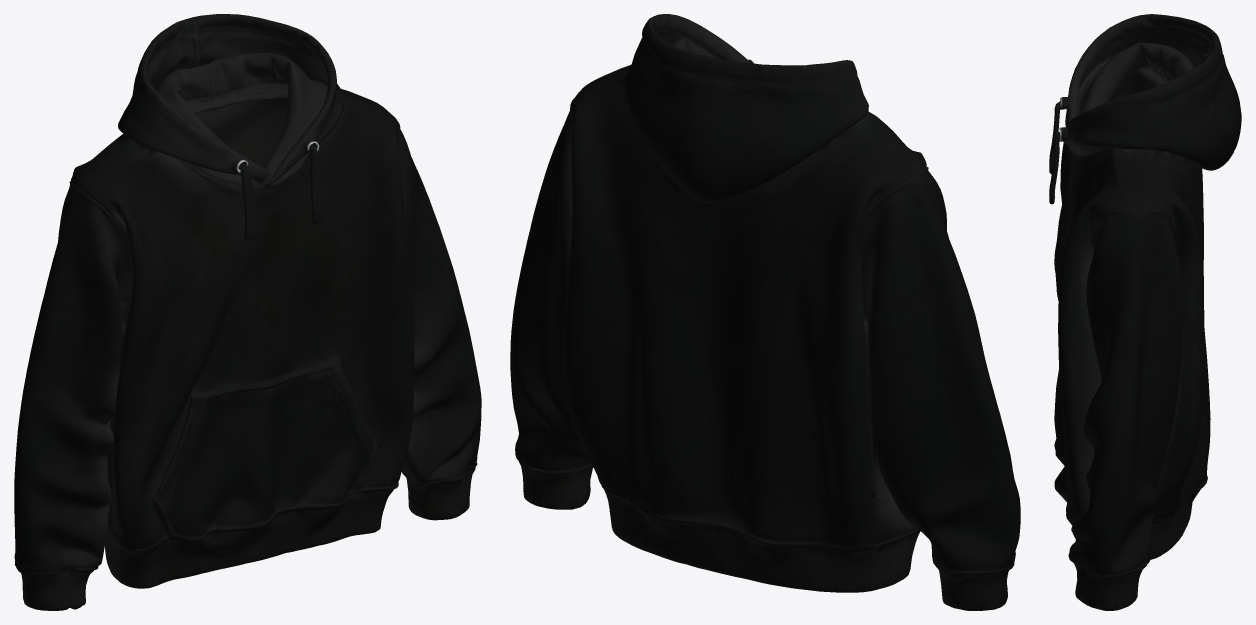
Rendered from web.glb.
The picture shows the model from 3 angles, left to right: view 1: azimuth 30°, elevation 25°; view 2: azimuth 150°, elevation 25°; view 3: azimuth 270°, elevation 25°; orthographic projection. The views are drawn at different scales.
Parts seen in each view (by area): view 1: model; view 2: model; view 3: model.
Part boxes in pixels (box(x1,y1,x2,y2)): model: box(14, 14, 481, 610); model: box(510, 14, 1020, 610); model: box(1049, 14, 1241, 610).
Bounding box in the file's own units: 1.94 × 2 × 0.7387.
Materials: 1 (1 with a texture image).
